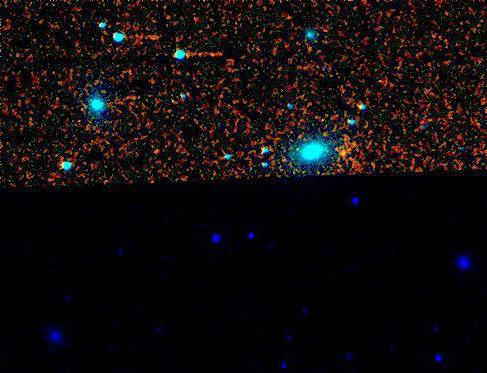star: (329, 138, 359, 168)
